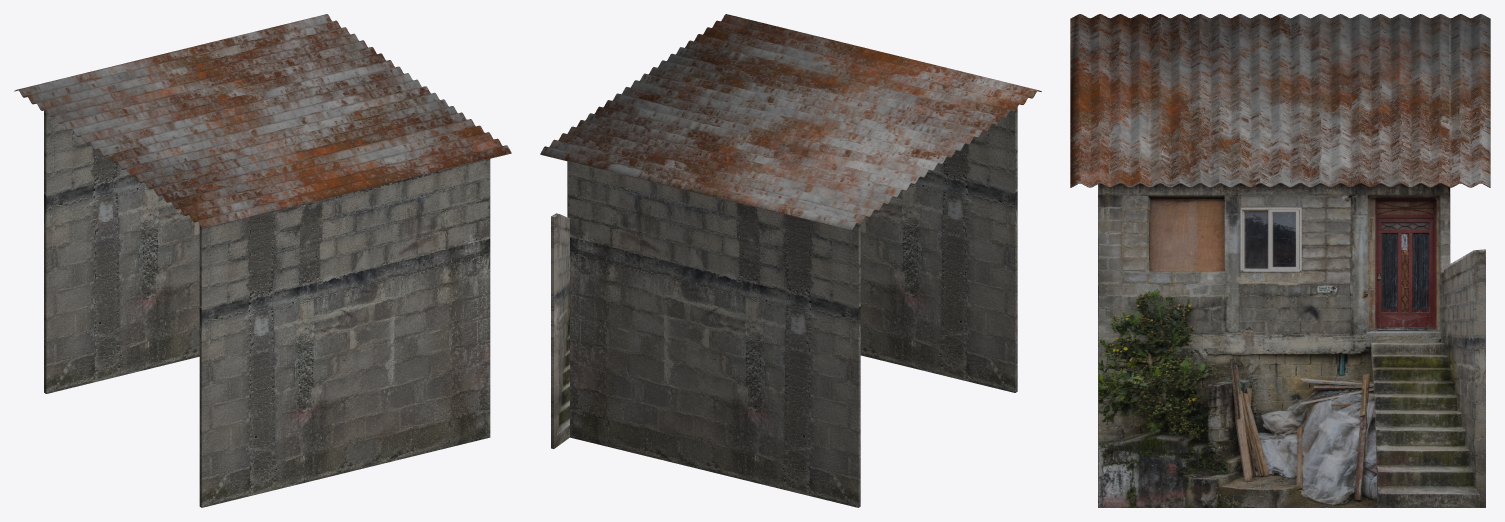
File: casaA_izquierda_06.fbx
3 renders of one model, left to right at view 1: azimuth 30°, elevation 25°; view 2: azimuth 150°, elevation 25°; view 3: azimuth 270°, elevation 25°, orthographic. The views are drawn at different scales.
Parts seen in each view (by area): view 1: casaA_izquierda_05B.004, CorrigatedPanel-2x2.009, casaA_izquierda_05B.005; view 2: casaA_izquierda_05B.005, CorrigatedPanel-2x2.009, casaA_izquierda_05B.004, casaA_izquierda_06.001; view 3: casaA_izquierda_06.001, CorrigatedPanel-2x2.009.
Boxes of the visible parts, bbox=[...] form: casaA_izquierda_05B.004: bbox=[199, 159, 490, 507]; CorrigatedPanel-2x2.009: bbox=[14, 14, 511, 228]; casaA_izquierda_05B.005: bbox=[44, 30, 332, 393]; casaA_izquierda_05B.005: bbox=[567, 142, 860, 507]; CorrigatedPanel-2x2.009: bbox=[540, 14, 1041, 230]; casaA_izquierda_05B.004: bbox=[860, 107, 1017, 392]; casaA_izquierda_06.001: bbox=[551, 161, 569, 448]; casaA_izquierda_06.001: bbox=[1098, 180, 1485, 507]; CorrigatedPanel-2x2.009: bbox=[1070, 14, 1490, 187].
Size of the model in its own units: 536 by 490 by 565.
